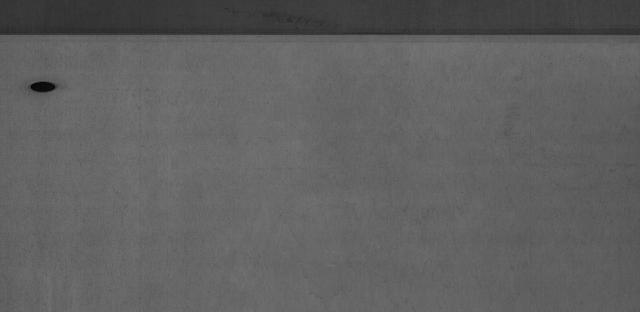punching_hole: (25, 77, 65, 95)
welding_line: (4, 27, 640, 49)
